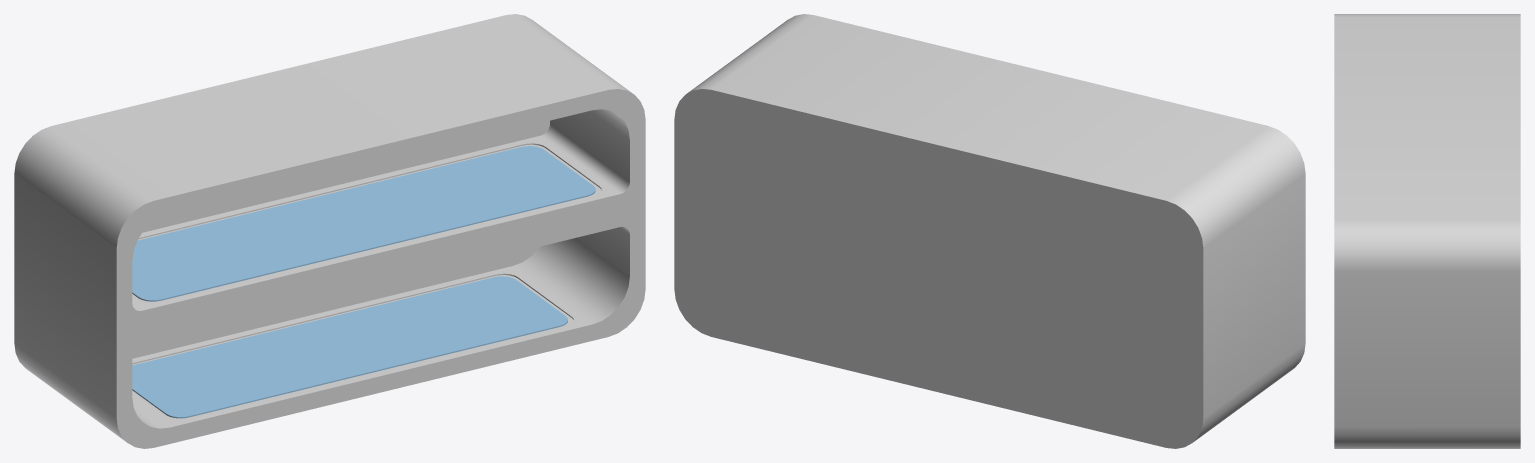
The model's file is FBX_RoundedShelves_2.fbx.
3 views of the same model, side by side, from view 1: azimuth 30°, elevation 25°; view 2: azimuth 150°, elevation 25°; view 3: azimuth 270°, elevation 25° (orthographic). The views are drawn at different scales.
Parts seen in each view (by area): view 1: Cube; view 2: Cube; view 3: Cube.
Boxes of the visible parts, left/top/right/bottom form: Cube: left=14, top=14, right=645, bottom=448; Cube: left=674, top=14, right=1305, bottom=448; Cube: left=1334, top=14, right=1520, bottom=448.
Size of the model in its own units: 134 by 60 by 45.
